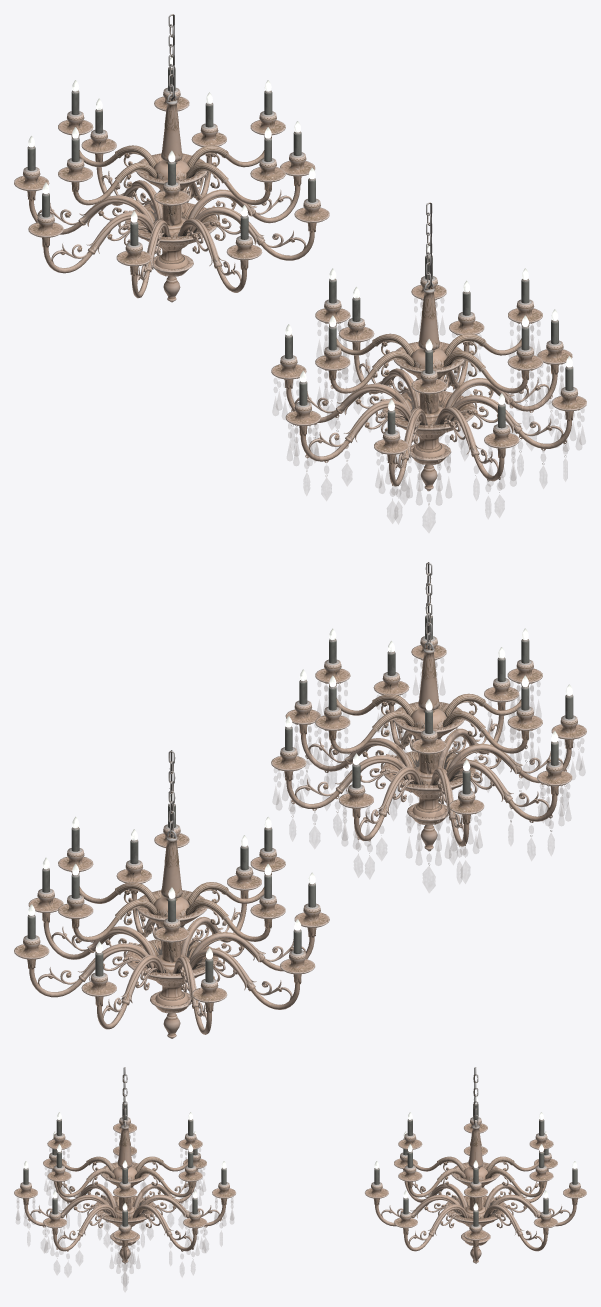
The model's file is antique_ornate_chandelier_-_game_model.glb.
3 renders of one model, top to bottom at view 1: azimuth 30°, elevation 25°; view 2: azimuth 150°, elevation 25°; view 3: azimuth 270°, elevation 25°, orthographic. The views are drawn at different scales.
Parts seen in each view (by area): view 1: center, center.001, arm.011, arm.025, arm.002, arm.016, arm.020, arm.026, arm.014, arm.006, arm.012, arm.001 (+16 smaller); view 2: center.001, center, arm.022, arm.008, arm.016, arm.002, arm.007, arm.021, arm.014, arm.001, arm.013, arm.027 (+16 smaller); view 3: center.001, center, arm.011, arm.025, arm.022, arm.008, arm.026, arm.007, arm.012, arm.021, arm.023, arm.009 (+16 smaller).
Part boxes in pixels (box(x1,y1,x2,y2)): center: box(382, 282, 475, 490); center.001: box(125, 93, 218, 302); arm.011: box(446, 356, 586, 448); arm.025: box(189, 167, 329, 260); arm.002: box(285, 370, 411, 461); arm.016: box(28, 182, 154, 273); arm.020: box(14, 136, 153, 234); arm.026: box(179, 205, 262, 292); arm.014: box(188, 121, 315, 223); arm.006: box(271, 324, 411, 422); arm.012: box(436, 393, 519, 481); arm.001: box(445, 309, 572, 411); center.001: box(125, 830, 218, 1038); center: box(382, 642, 475, 850); arm.022: box(14, 904, 154, 997); arm.008: box(271, 716, 411, 808); arm.016: box(189, 919, 315, 1009); arm.002: box(446, 731, 572, 821); arm.007: box(339, 753, 421, 841); arm.021: box(81, 941, 164, 1029); arm.014: box(28, 857, 155, 959); arm.001: box(285, 669, 412, 771); arm.013: box(447, 684, 586, 783); arm.027: box(189, 872, 329, 971); center.001: box(444, 1121, 507, 1263); center: box(93, 1121, 156, 1263); arm.011: box(43, 1190, 117, 1251); arm.025: box(394, 1190, 467, 1251); arm.022: box(483, 1190, 557, 1251); arm.008: box(133, 1190, 206, 1251); arm.026: box(365, 1161, 461, 1226); arm.007: box(139, 1161, 235, 1226); arm.012: box(14, 1161, 110, 1226); arm.021: box(490, 1161, 586, 1226); arm.023: box(398, 1144, 466, 1197); arm.009: box(47, 1144, 115, 1197).
Bounding box in the file's own units: 4.43 × 4.97 × 11.43.
Materials: 3 (3 with a texture image).
